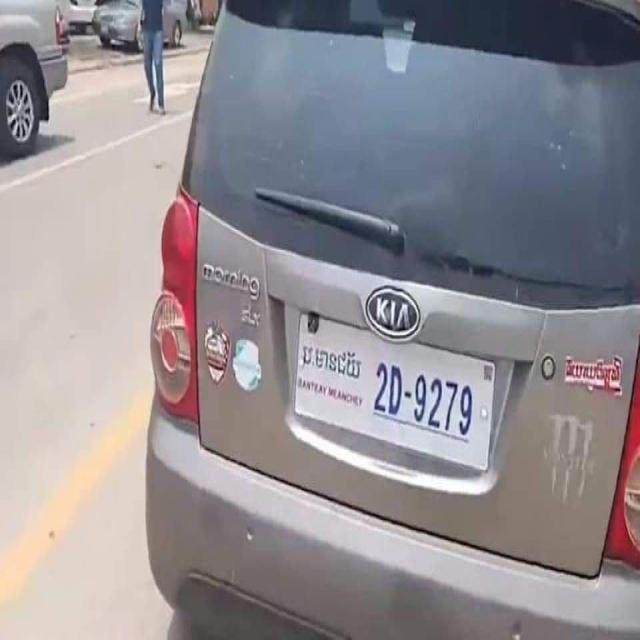Banteay_Meanchey: (304, 343, 362, 380)
